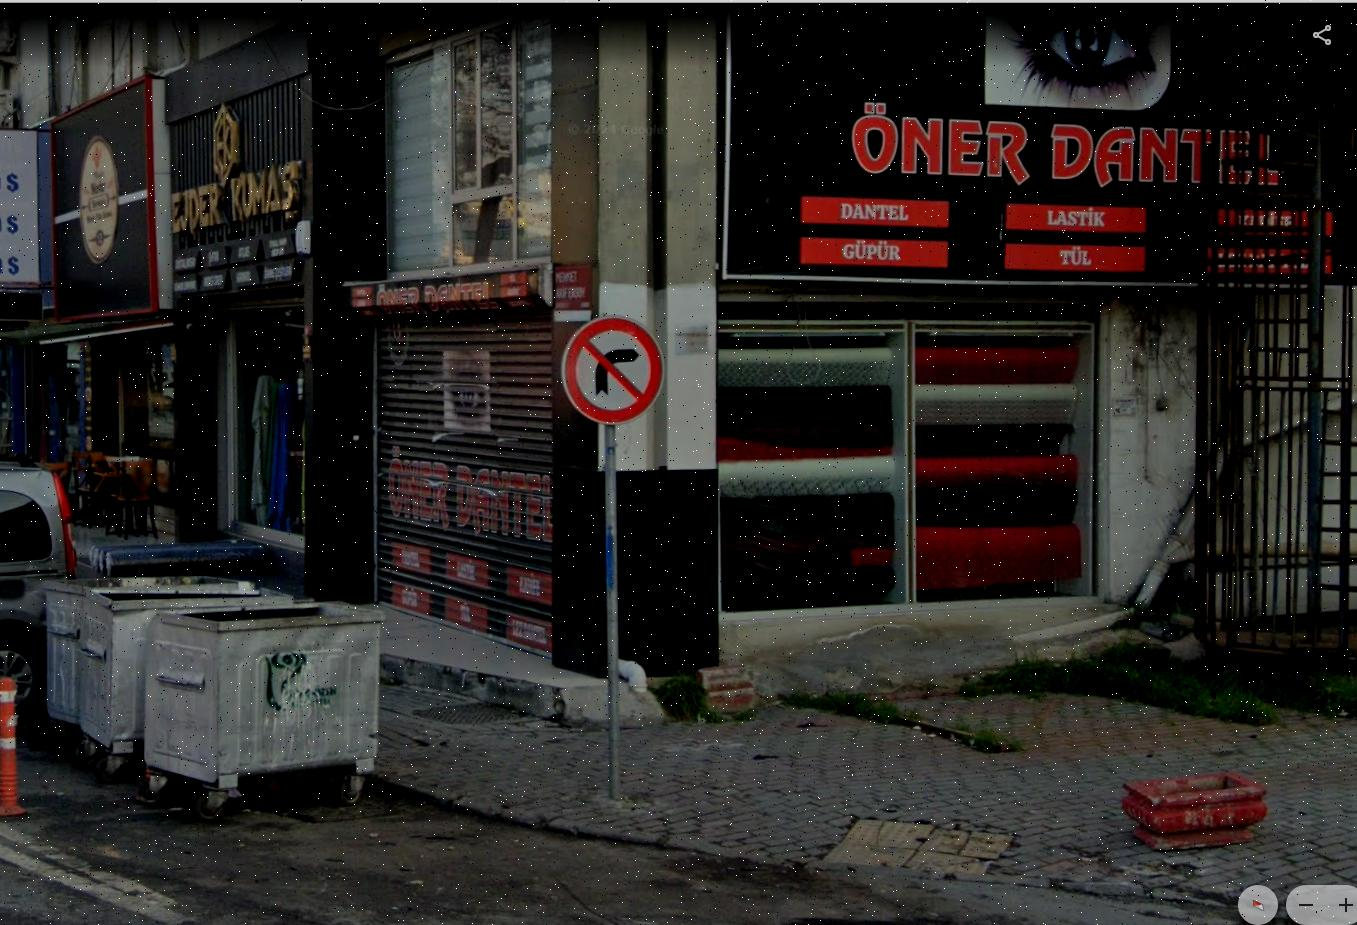rightturnsareforbidden: (563, 318, 666, 422)
